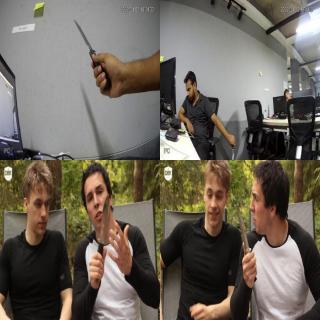knife: (70, 10, 114, 94), (234, 199, 258, 285), (90, 189, 110, 281), (228, 144, 236, 160)
